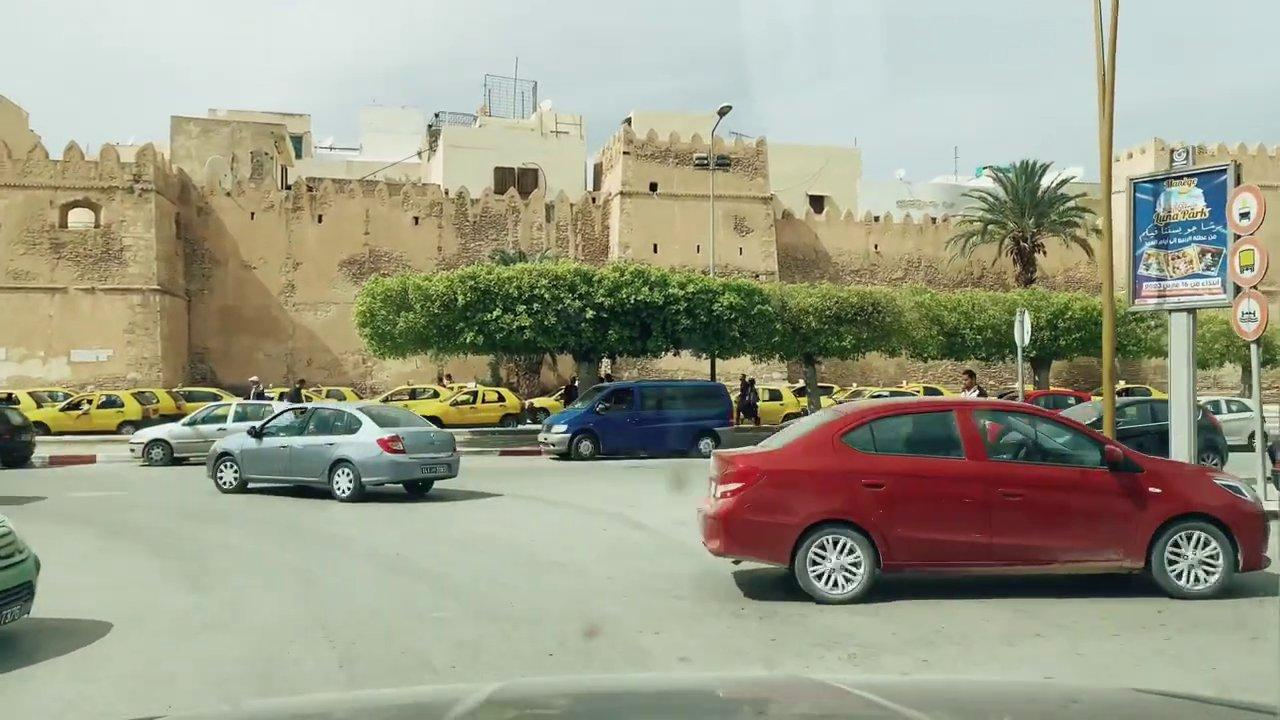no vehicles carrying dangerous goods: (1225, 235, 1270, 289)
no vehicles carrying explosives: (1224, 182, 1267, 237)
no vehicles carrying water pollutants: (1229, 289, 1272, 342)
